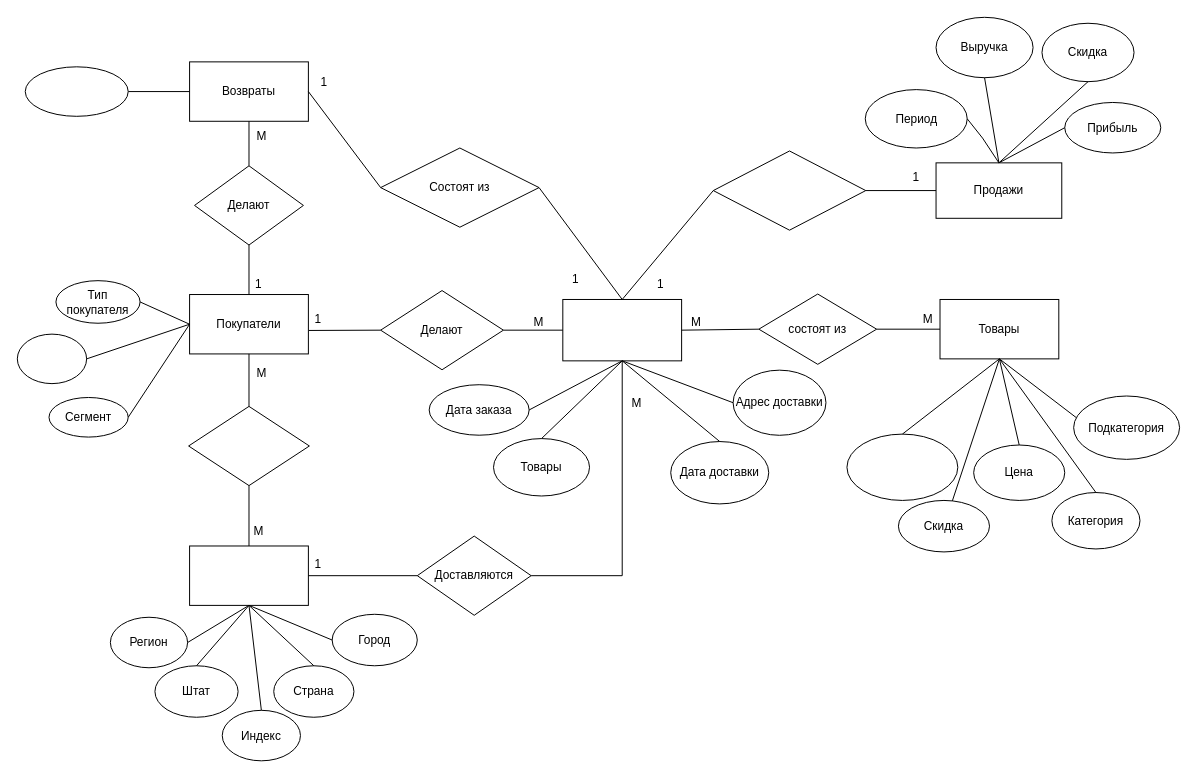
Some shapes in this 1197 by 778 pixel diagram are drawn without their labels. The centre of each missing label's shape, as x and y in pixels:
"Адреса" goes at (x=248, y=575).
"Заказы" goes at (x=622, y=329).
"Наименование" goes at (x=902, y=466).
"Номер заказа" goes at (x=76, y=91).
"Попадают" goes at (x=789, y=190).
"Проживают" goes at (x=248, y=445).
"ФИО" goes at (x=51, y=358).
